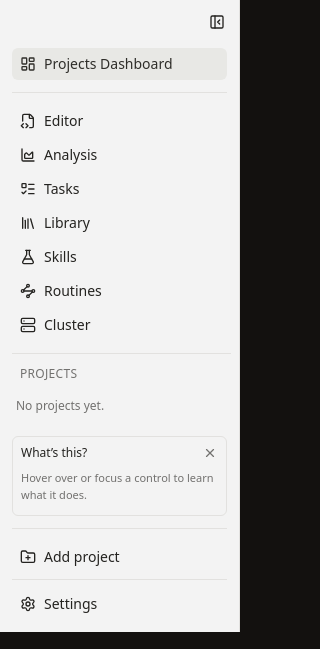
it: Sidebar › the clone item reveals an inline git-URL form
Click the button with test id "add-project" at (120, 556), box [12,540,227,572]
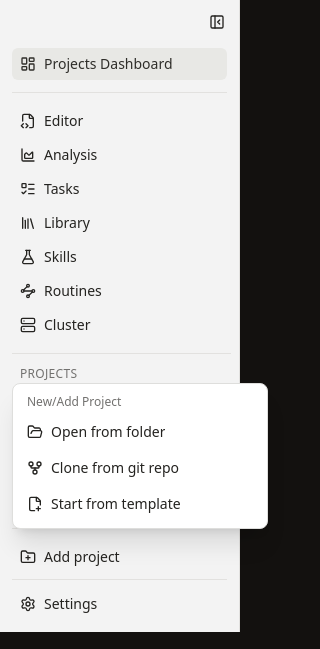
Click the menu item with test id "add-project-clone" at (140, 468), box [19,450,261,486]
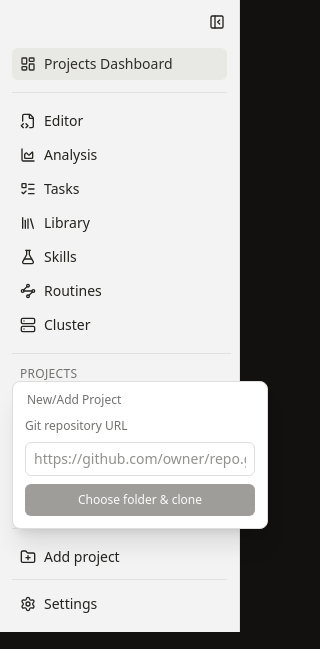
Check: the form with test id "add-project-clone-form" is shown, box [19,412,261,522]
Check: the field with test id "add-project-clone-url" is shown, box [25,442,255,476]
Check: the menu item with test id "add-project-folder" is gone
